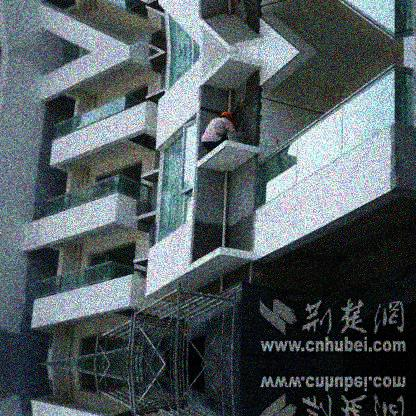helmet: (220, 111, 234, 123)
